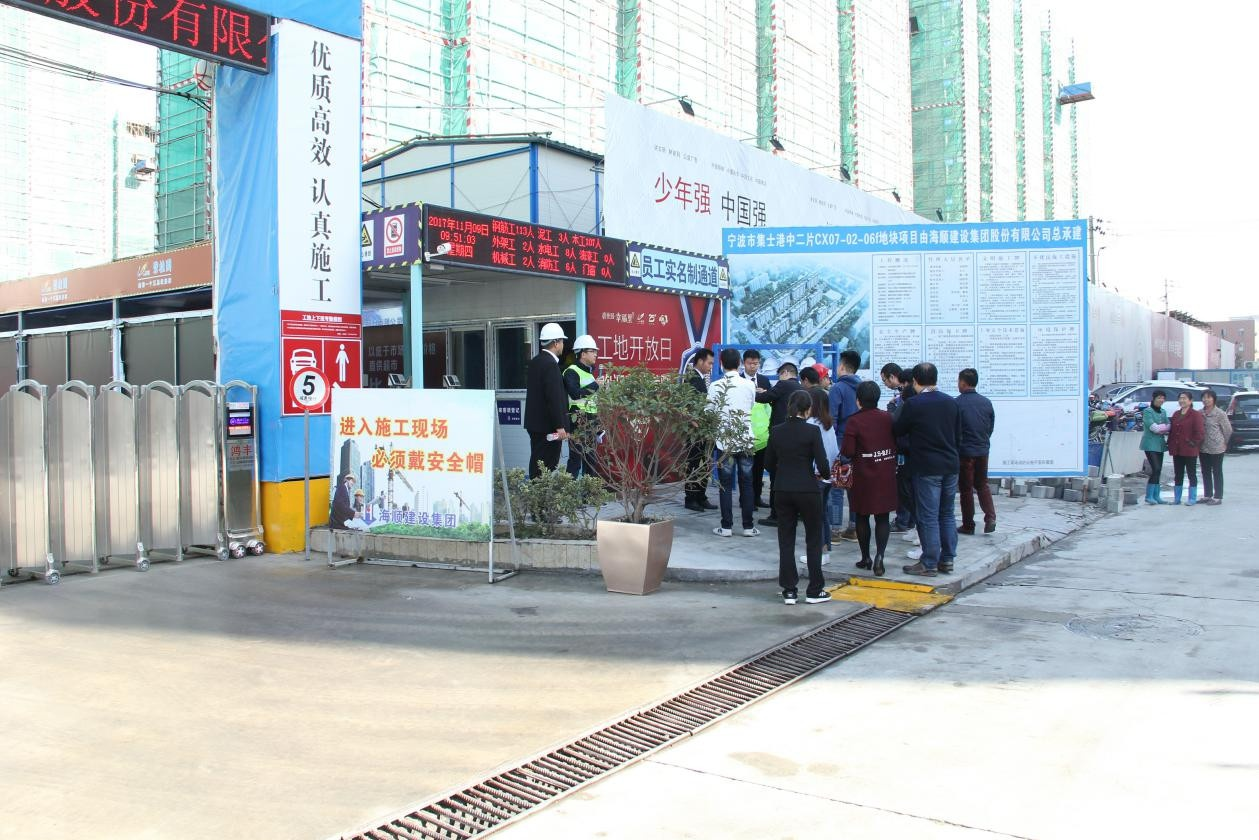none: (784, 388, 815, 423), (910, 359, 940, 393), (834, 347, 862, 378), (854, 378, 881, 410), (878, 358, 903, 389), (689, 347, 716, 373), (955, 366, 980, 393), (717, 346, 741, 374), (774, 360, 799, 384), (740, 347, 761, 375), (798, 365, 820, 389), (1175, 389, 1194, 410), (1149, 388, 1166, 407)
red: (810, 361, 829, 388)
white: (535, 320, 565, 357), (570, 333, 597, 366)
